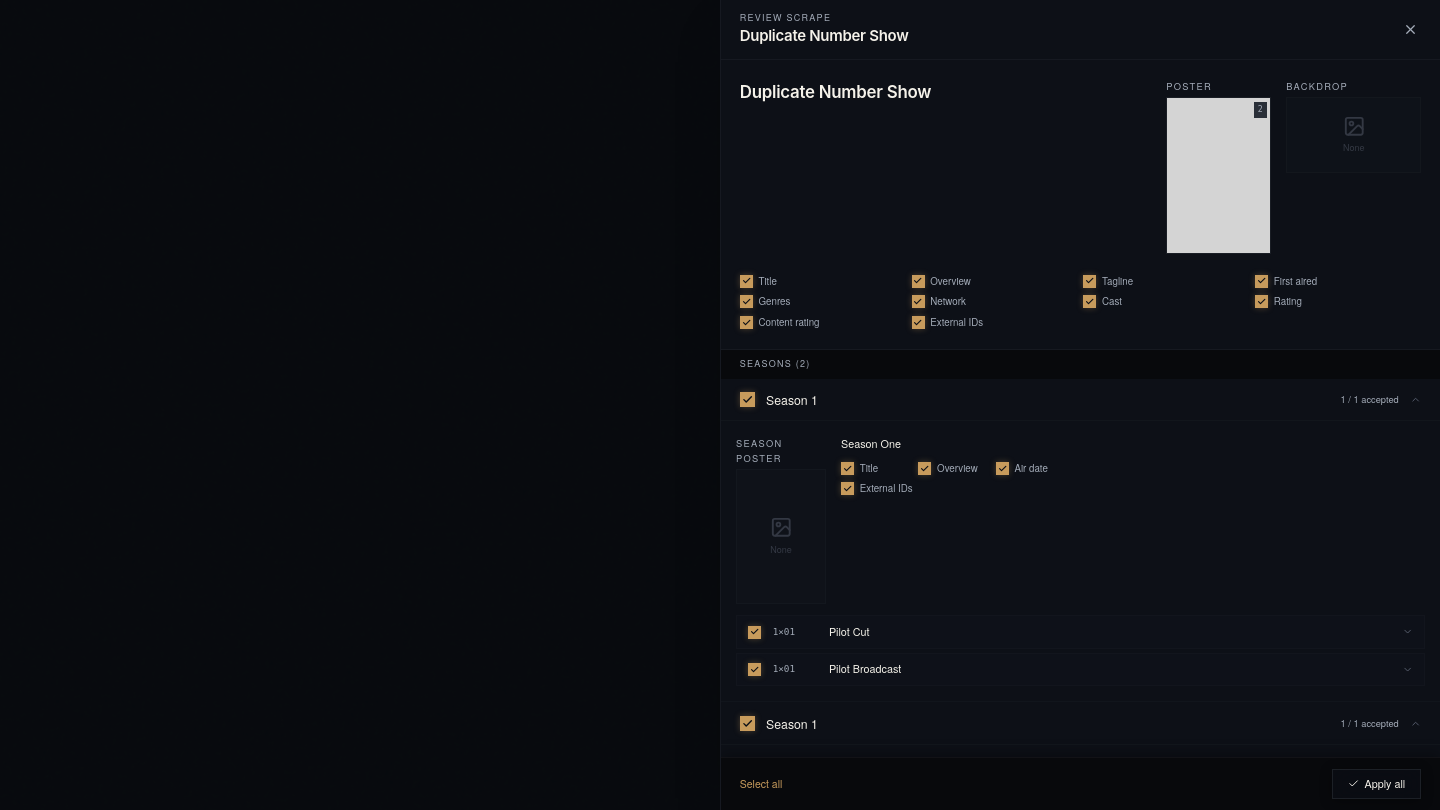
CascadeReviewDrawer › renders MovieDB cascade rows with duplicate season and episode numbers
The width and height of the screenshot is (1440, 810).
Expected: the heading "Duplicate Number Show" below "Review scrape" is shown, [740,26,908,45]
Expected: the text "Pilot Cut" is shown, [829,624,870,639]
What coordinates should you click on to do the following:
click the button titled "Choose poster (2 available)"
I would click on:
 (1219, 176)
Its box is [1166,97,1271,254].
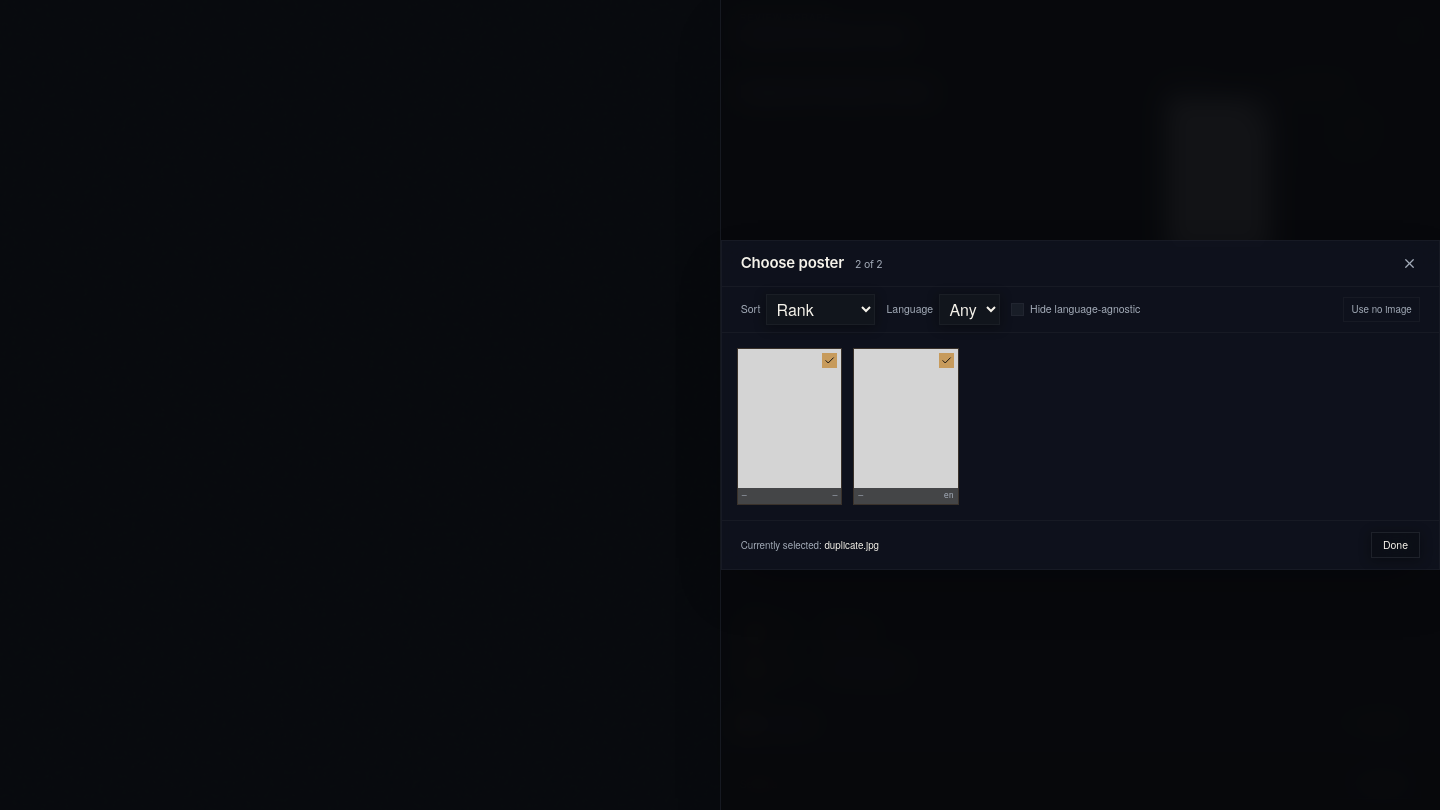
Expected: the text "2 of 2" is shown, [855,258,882,271]
